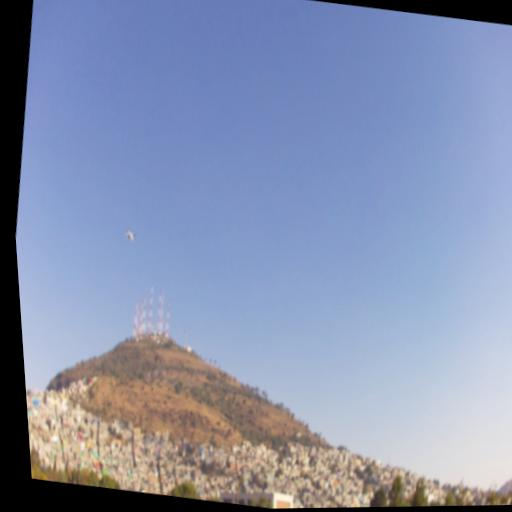drones: (122, 226, 139, 244)
